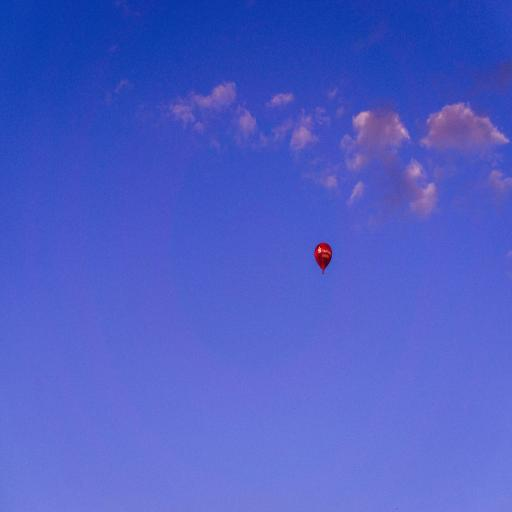hot air ballon: (314, 243, 332, 274)
